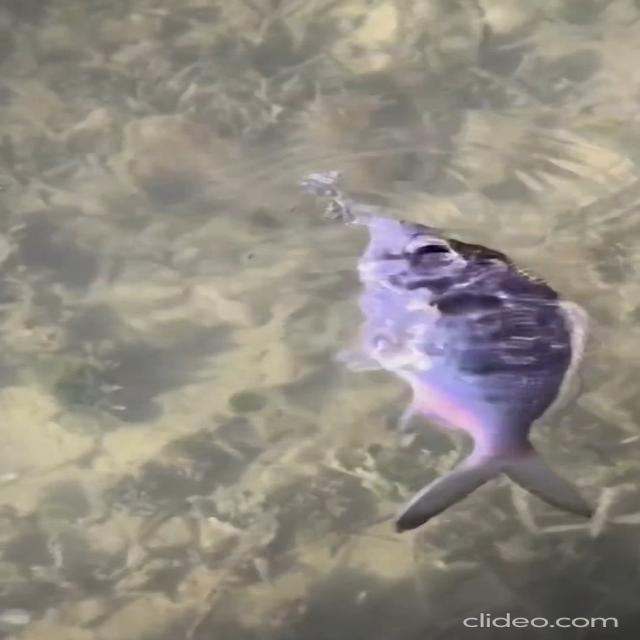fish: (328, 195, 634, 542)
